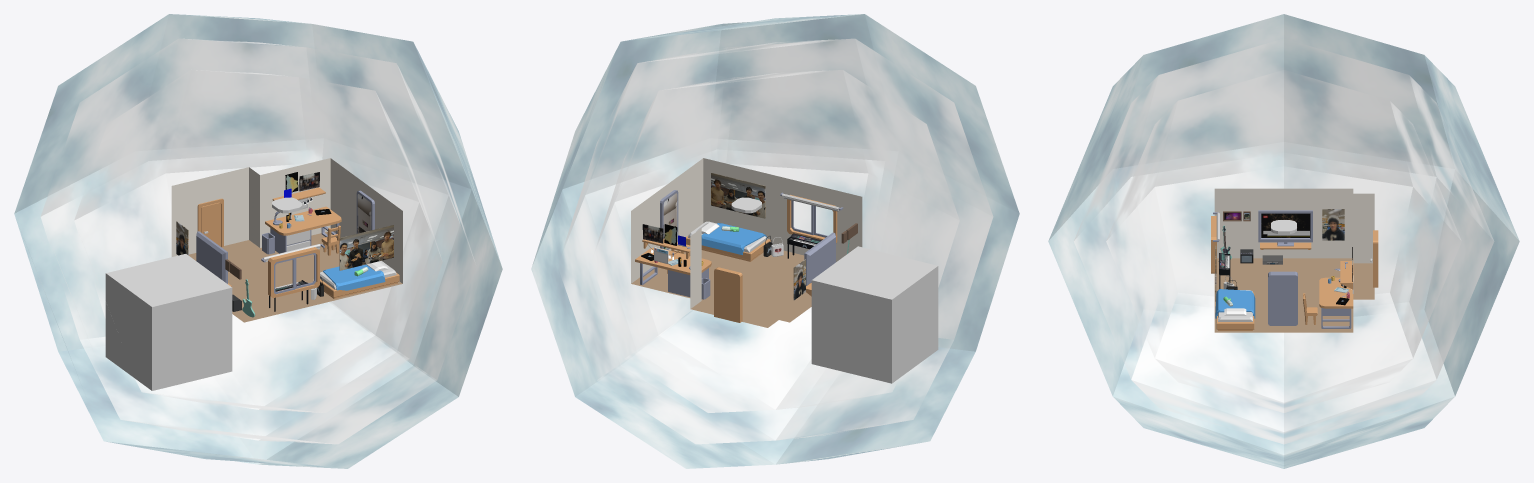
Rendered from bedroom.glb.
3 views of the same model, side by side, from view 1: azimuth 30°, elevation 25°; view 2: azimuth 150°, elevation 25°; view 3: azimuth 270°, elevation 25° (orthographic). The views are drawn at different scales.
Parts seen in each view (by area): view 1: outer sky, colored sky, inner sky, Cube, house base, house floor, Plane.019, desk top, door, blanket, Cube.036, Cube.045 (+1 smaller); view 2: outer sky, colored sky, inner sky, Cube, house base, house floor, Plane.019, door, blanket, Cube.036, desk top, drawer; view 3: outer sky, colored sky, inner sky, house base, house floor, mirror square base, Plane.030, blanket, desk top, Plane.028, Cube.036.
Part boxes in pixels (x1=…): outer sky: x1=14, y1=14, x2=502, y2=468; colored sky: x1=40, y1=38, x2=476, y2=444; inner sky: x1=74, y1=70, x2=442, y2=412; Cube: x1=105, y1=254, x2=232, y2=390; house base: x1=171, y1=158, x2=402, y2=283; house floor: x1=188, y1=231, x2=402, y2=322; Plane.019: x1=339, y1=225, x2=393, y2=270; desk top: x1=265, y1=206, x2=341, y2=235; door: x1=197, y1=198, x2=223, y2=247; blanket: x1=323, y1=264, x2=385, y2=290; Cube.036: x1=196, y1=231, x2=227, y2=283; Cube.045: x1=268, y1=247, x2=319, y2=298; outer sky: x1=531, y1=14, x2=1019, y2=468; colored sky: x1=562, y1=38, x2=993, y2=444; inner sky: x1=595, y1=70, x2=959, y2=412; Cube: x1=811, y1=246, x2=938, y2=383; house base: x1=631, y1=158, x2=862, y2=308; house floor: x1=631, y1=250, x2=811, y2=327; Plane.019: x1=711, y1=173, x2=765, y2=218; door: x1=714, y1=267, x2=742, y2=322; blanket: x1=701, y1=223, x2=766, y2=254; Cube.036: x1=804, y1=232, x2=835, y2=285; desk top: x1=635, y1=247, x2=711, y2=274; drawer: x1=668, y1=268, x2=708, y2=296; outer sky: x1=1048, y1=14, x2=1519, y2=468; colored sky: x1=1073, y1=40, x2=1494, y2=444; inner sky: x1=1106, y1=71, x2=1461, y2=412; house base: x1=1214, y1=188, x2=1374, y2=263; house floor: x1=1214, y1=258, x2=1374, y2=332; mirror square base: x1=1268, y1=271, x2=1297, y2=325; Plane.030: x1=1261, y1=213, x2=1309, y2=237; blanket: x1=1215, y1=289, x2=1255, y2=318; desk top: x1=1319, y1=277, x2=1353, y2=308; Plane.028: x1=1322, y1=209, x2=1344, y2=240; Cube.036: x1=1258, y1=210, x2=1312, y2=242.
Bounding box in the file's own units: 10.64 × 10.64 × 10.64.
47 materials, 24 textured.
